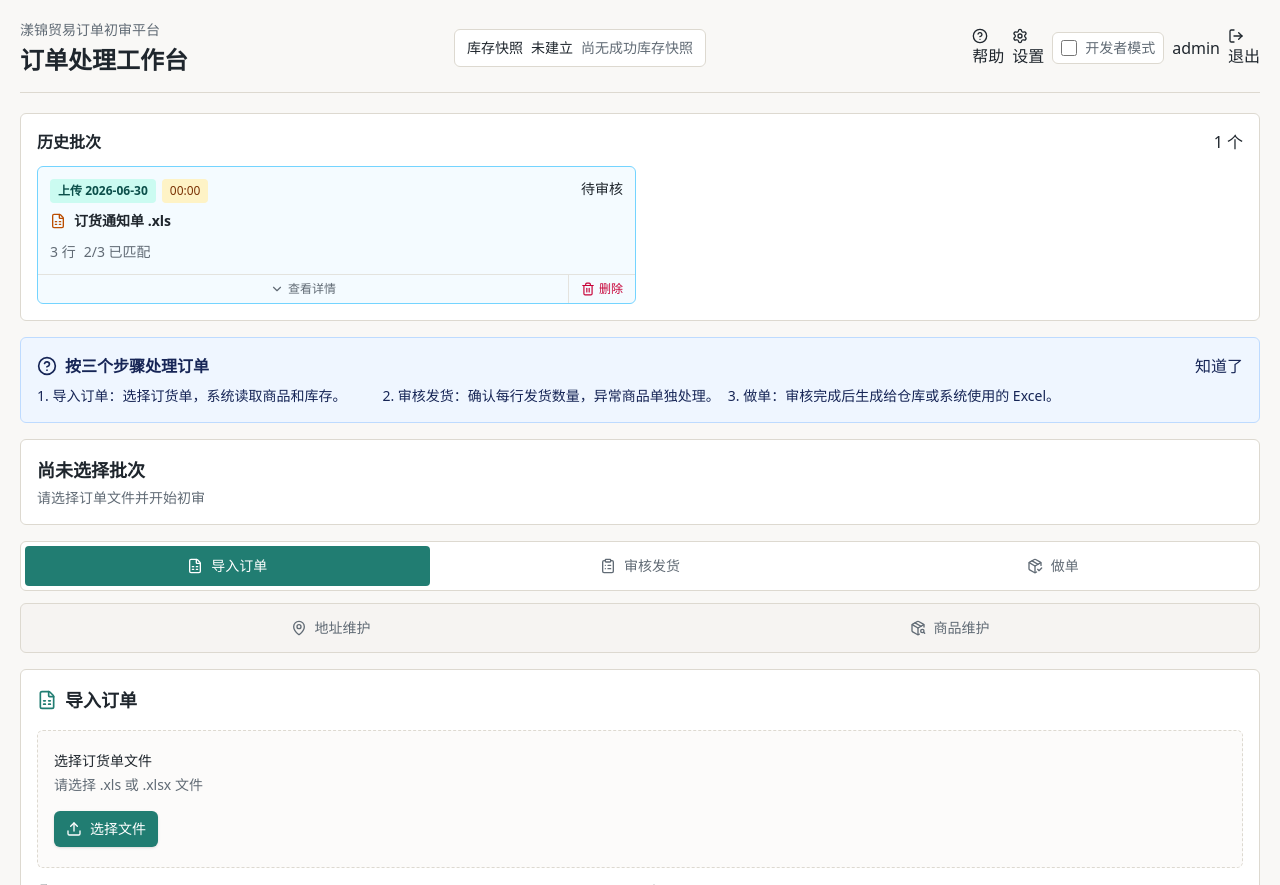
Test: App › explains that business work can continue when no successful snapshot exists
Expected: the text "尚无成功库存快照" is shown, [581,38,693,58]
Click the button "设置": (1028, 48) [1012,28,1044,68]
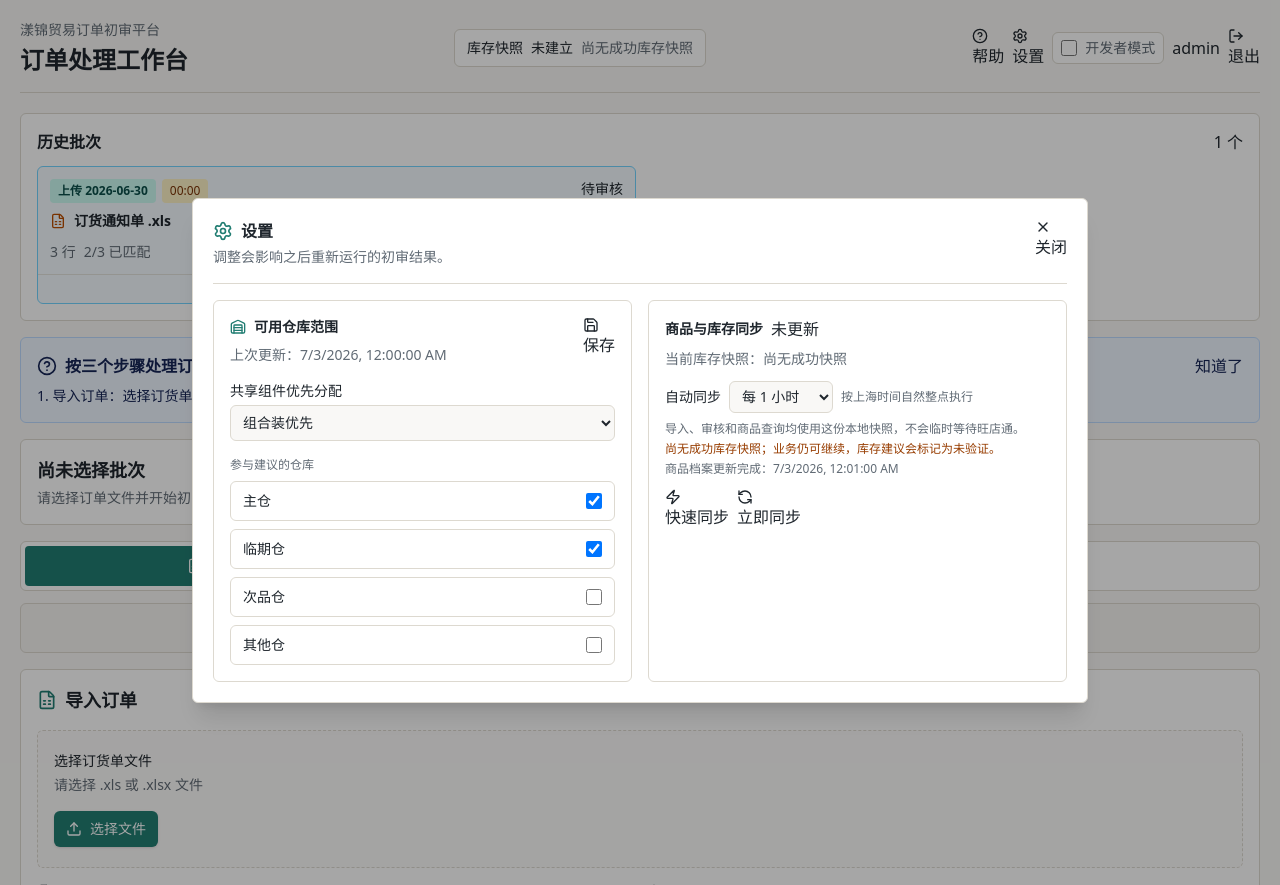
Expected: the text "尚无成功库存快照；业务仍可继续，库存建议会标记为未验证。" is shown, [665,440,1025,456]
